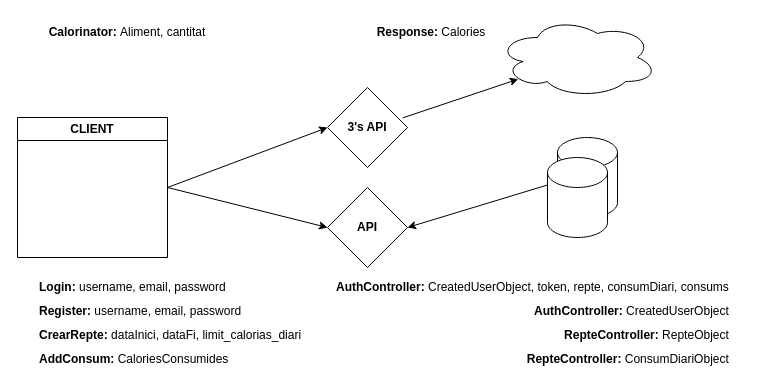
This 782x388 diagram has some shape labels left out. The shapes that lost their labels are listed below. From the top down, each one's centre as x and y in pixels, then its label:
At pixel 577 57: "SPOONACULAR".
At pixel 577 197: "BBDD".
